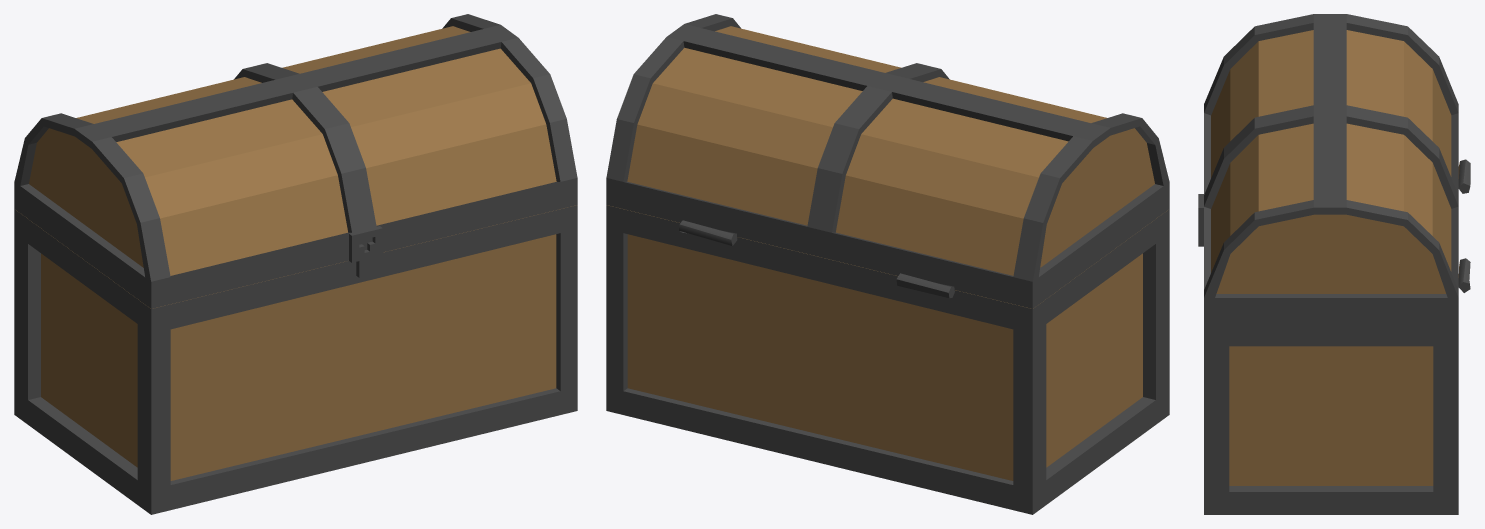
File: bau.fbx
The picture shows the model from 3 angles, left to right: view 1: azimuth 30°, elevation 25°; view 2: azimuth 150°, elevation 25°; view 3: azimuth 270°, elevation 25°; orthographic projection. The views are drawn at different scales.
Parts seen in each view (by area): view 1: bau; view 2: bau; view 3: bau.
Boxes of the visible parts, left/top/right/bottom form: bau: left=14, top=14, right=577, bottom=514; bau: left=606, top=14, right=1169, bottom=514; bau: left=1198, top=14, right=1470, bottom=514.
Size of the model in its own units: 386 by 285 by 229.
